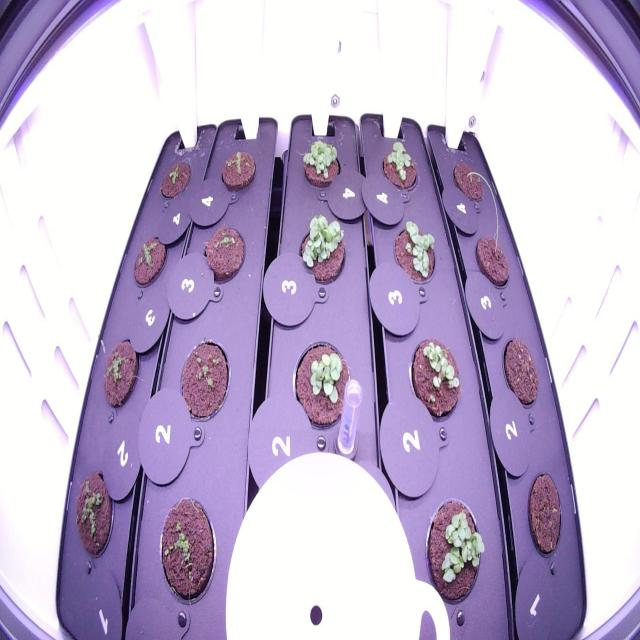germination: (154, 490, 222, 615), (424, 493, 491, 611), (287, 331, 359, 440), (176, 330, 233, 430), (409, 335, 466, 427), (70, 465, 119, 567), (296, 210, 350, 290), (391, 214, 442, 292), (96, 331, 142, 414), (196, 214, 248, 286), (127, 227, 171, 296), (296, 133, 347, 191), (377, 134, 423, 198), (213, 143, 260, 194), (154, 152, 193, 207)
pod: (522, 461, 569, 571), (498, 329, 544, 413), (472, 230, 512, 294), (448, 154, 489, 205)
